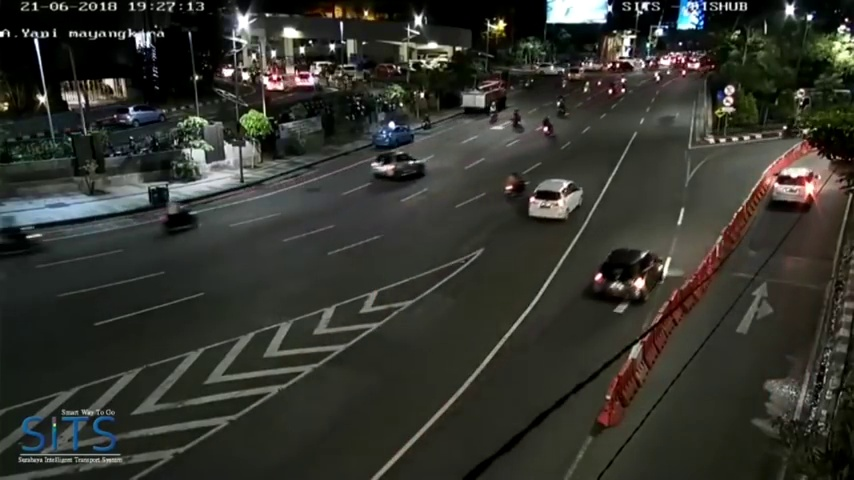car: (598, 245, 664, 303), (529, 177, 584, 223), (773, 166, 818, 209), (374, 152, 427, 183), (462, 85, 508, 117), (116, 104, 167, 127), (375, 122, 414, 149)
motorbike: (164, 194, 200, 234), (503, 171, 527, 201), (488, 100, 500, 124), (542, 117, 555, 138), (511, 110, 523, 130), (422, 113, 432, 131)
